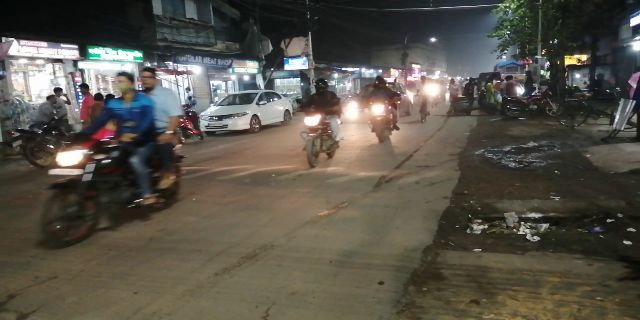Car: (203, 87, 294, 133)
Motorbike: (38, 66, 191, 246), (298, 79, 346, 169), (361, 73, 404, 146)
